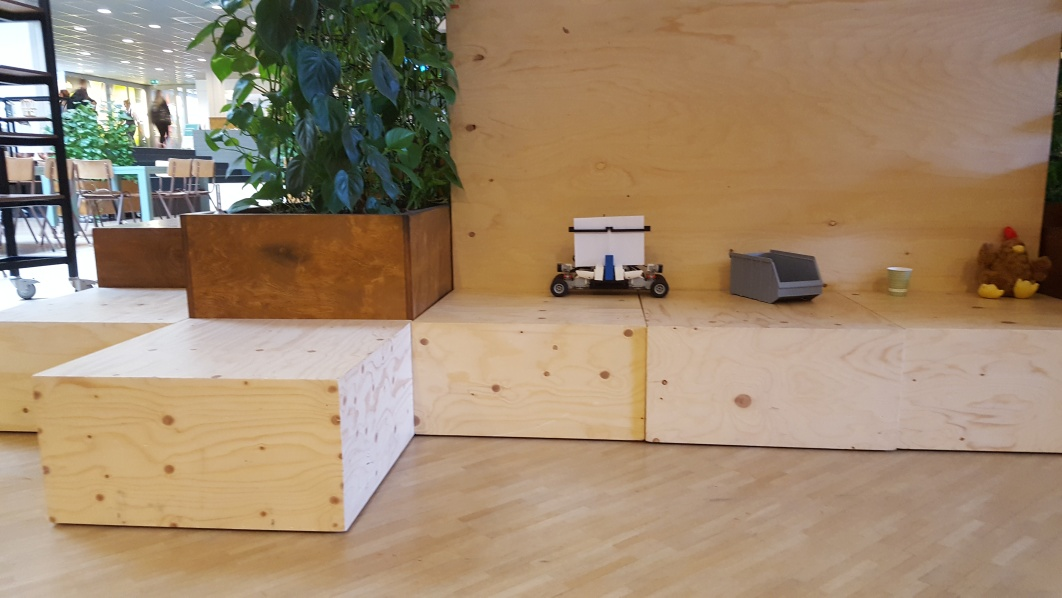beam: (602, 254, 619, 286)
chicken: (977, 227, 1049, 300)
cup: (883, 265, 915, 299)
tray: (720, 247, 831, 305)
